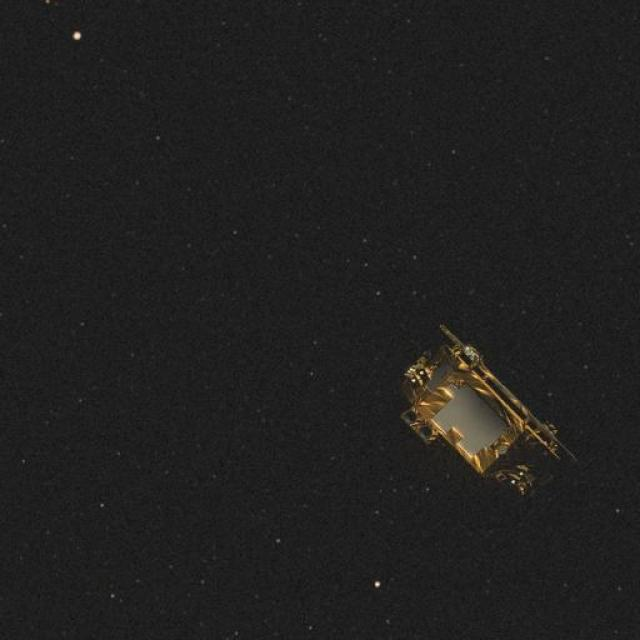lisa_pathfinder: (348, 300, 604, 532)
